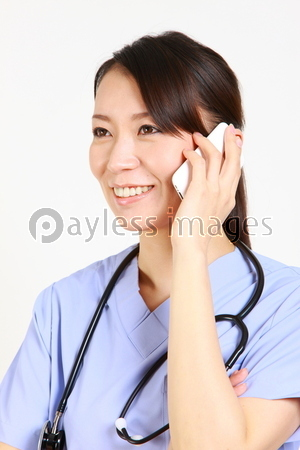phone: (174, 126, 243, 221)
talk: (87, 105, 247, 258)
